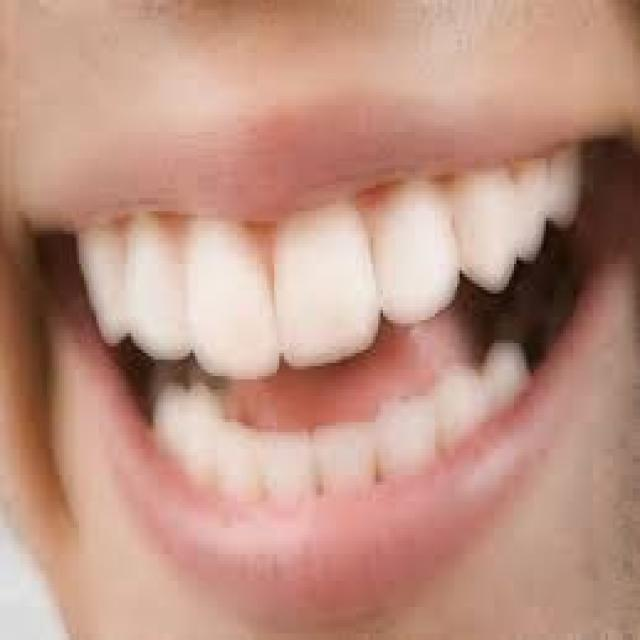tooth: (385, 196, 445, 368), (309, 210, 368, 381), (220, 218, 272, 360), (154, 209, 202, 358), (449, 175, 483, 326), (105, 188, 135, 337), (489, 162, 514, 320), (72, 173, 99, 292), (521, 152, 539, 284), (46, 180, 70, 262), (542, 146, 555, 222)
